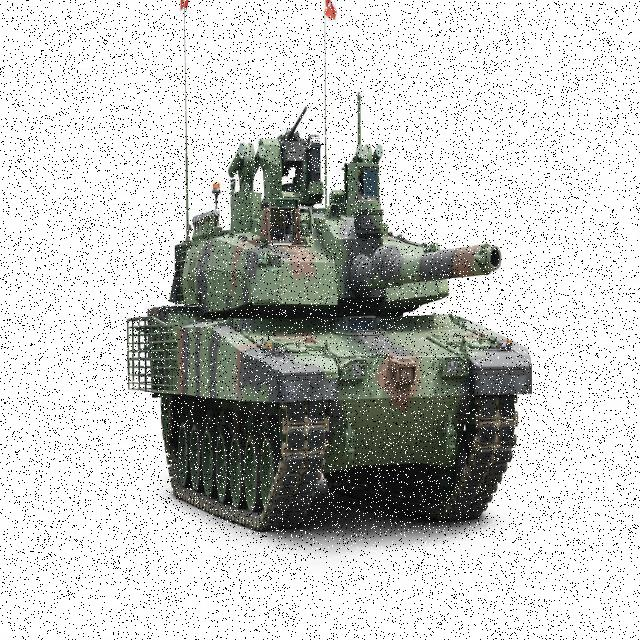MIL_MBT: (159, 133, 534, 529)
